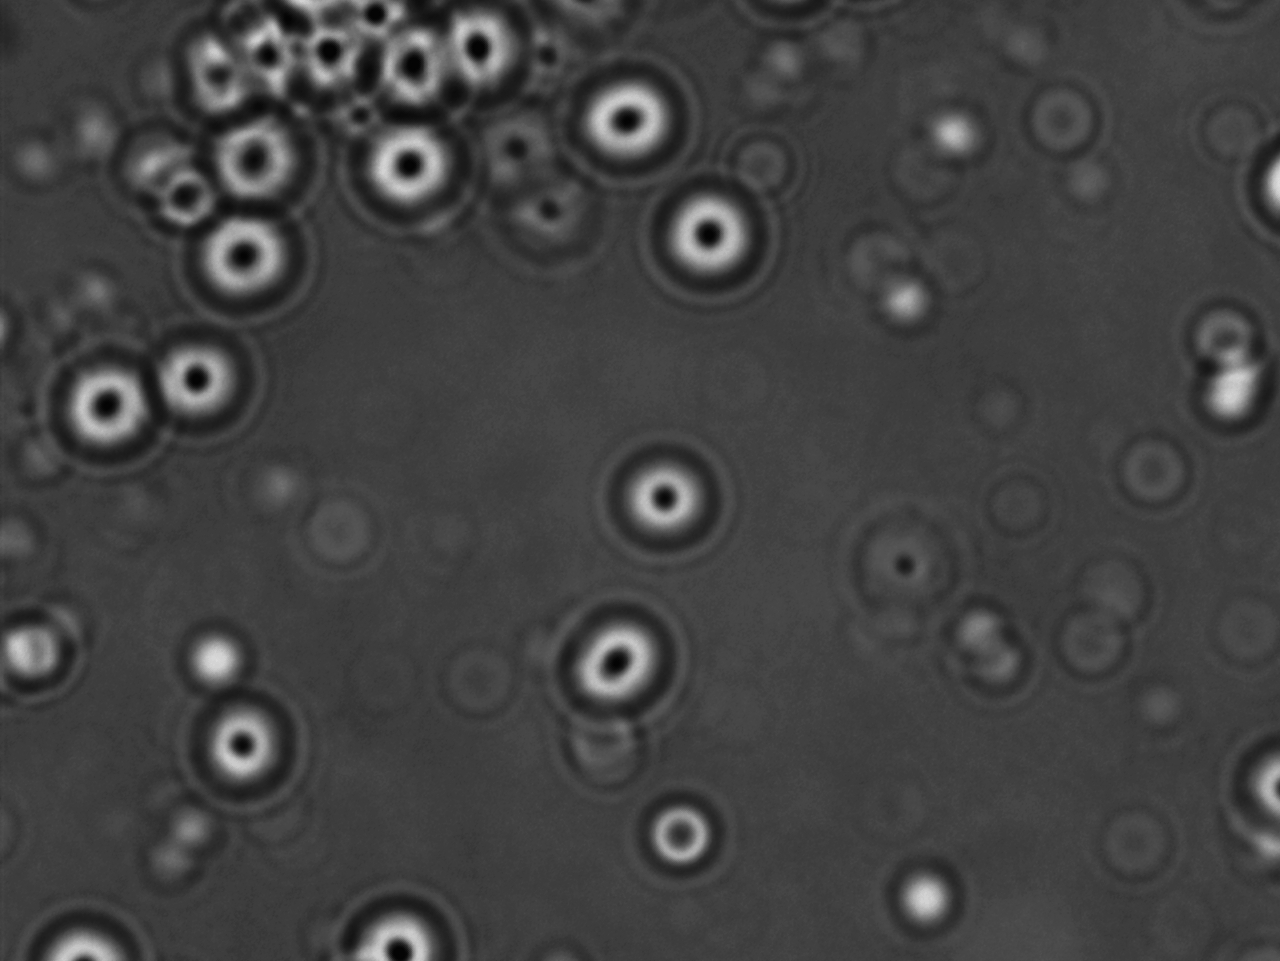depth:16: (553, 597, 686, 715), (650, 178, 772, 302), (42, 337, 161, 463), (181, 691, 302, 809), (609, 443, 731, 558), (570, 63, 691, 176), (146, 317, 266, 430), (186, 206, 293, 312), (351, 120, 460, 223), (341, 884, 481, 961)
